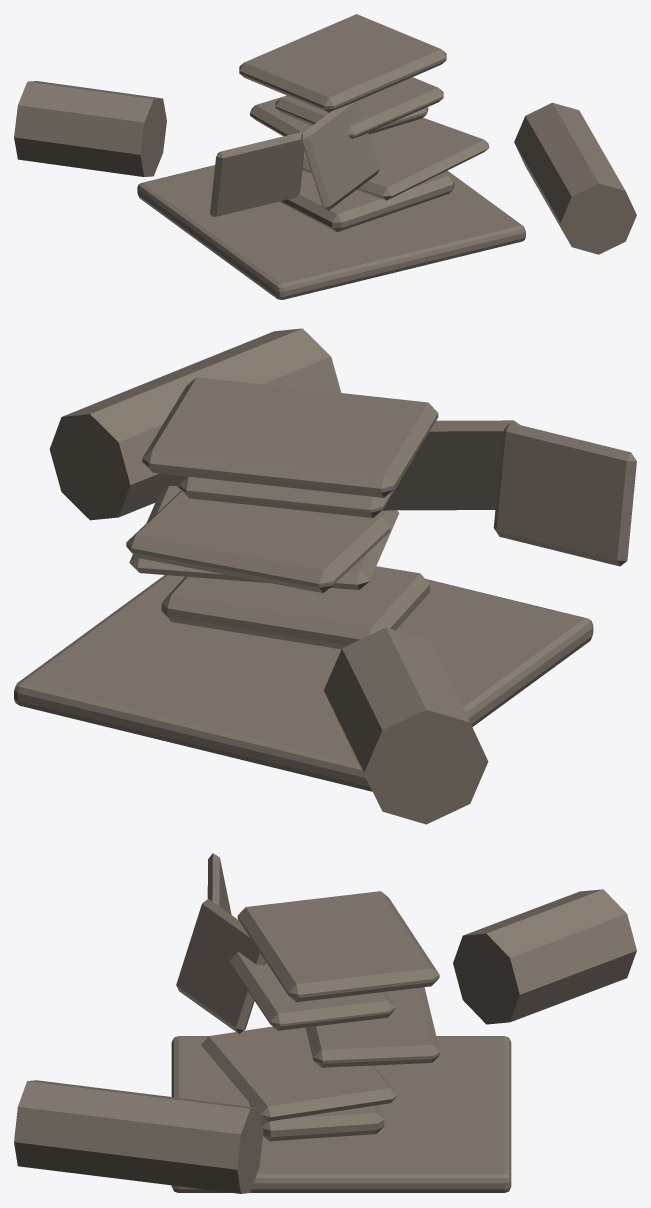
Rendered from scrap_1.glb.
3 views of the same model, one above another, from view 1: azimuth 30°, elevation 25°; view 2: azimuth 150°, elevation 25°; view 3: azimuth 270°, elevation 25° (orthographic). The views are drawn at different scales.
Parts seen in each view (by area): view 1: scrap; view 2: scrap; view 3: scrap.
Part boxes in pixels (left/top/right/bottom): scrap: left=14, top=14, right=636, bottom=299; scrap: left=14, top=328, right=636, bottom=824; scrap: left=14, top=853, right=636, bottom=1193.
Size of the model in its own units: 0.8645 by 0.3089 by 0.9077.
